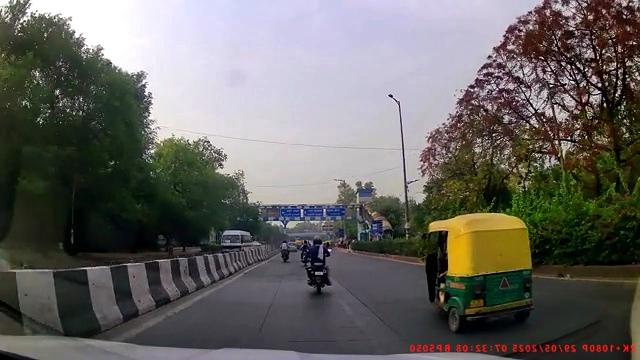motorcycle_with_helmet: (303, 233, 333, 295)
